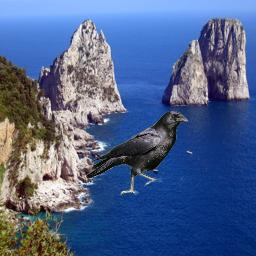Crow: (86, 110, 191, 196)
